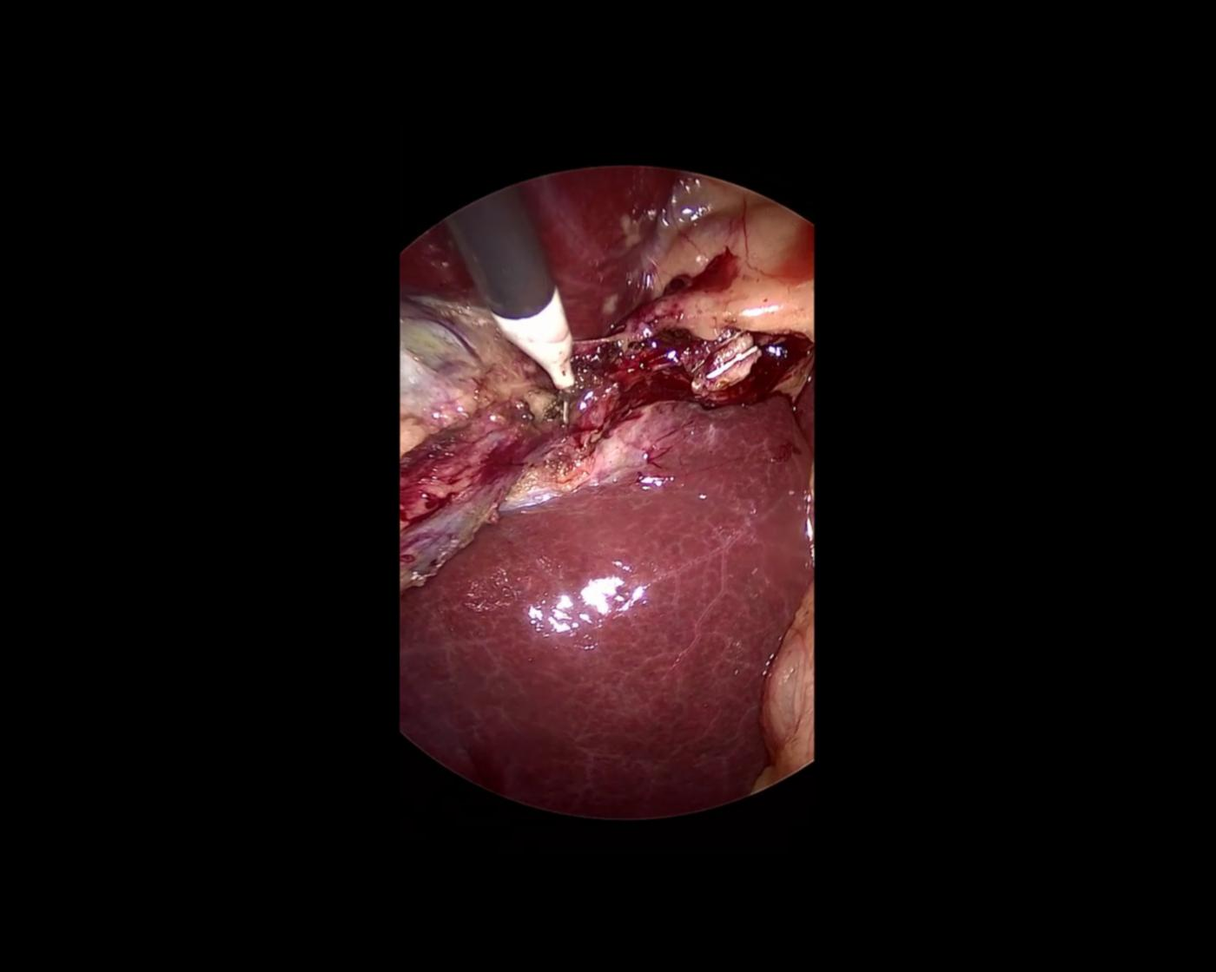Cautery: (442, 185, 603, 442)
Gallbladder: (401, 293, 548, 584)
Liver: (404, 377, 812, 814), (389, 119, 678, 360)
